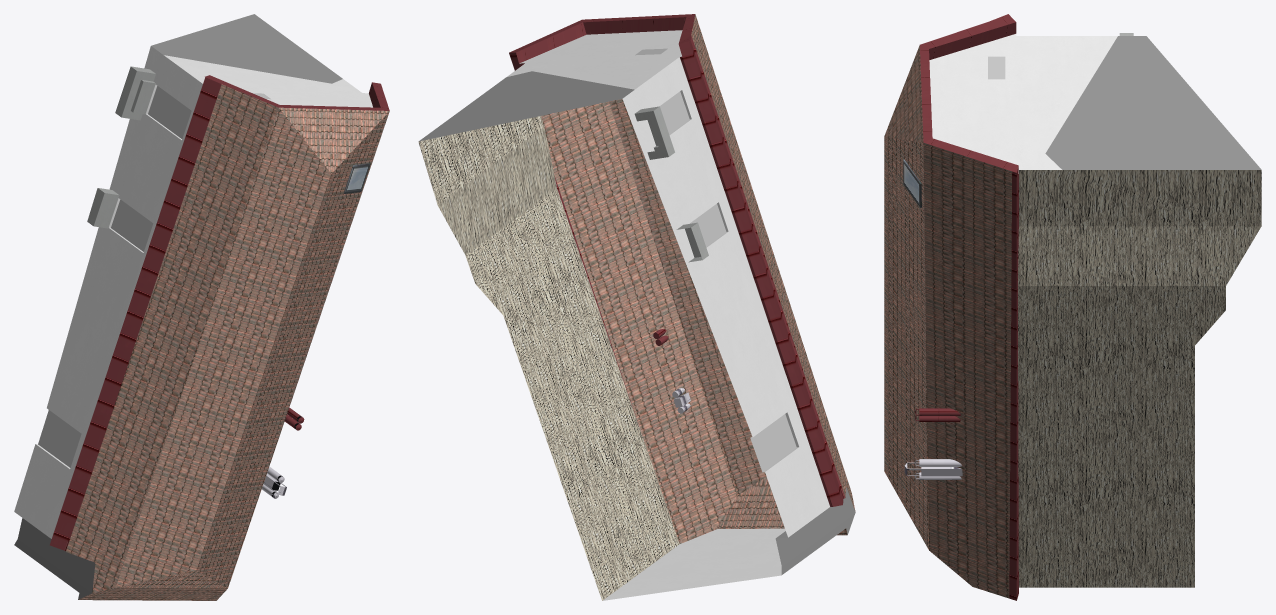
Rendered from Lyhike_jalg_9.obj.
The picture shows the model from 3 angles, left to right: view 1: azimuth 30°, elevation 25°; view 2: azimuth 150°, elevation 25°; view 3: azimuth 270°, elevation 25°; orthographic projection. The views are drawn at different scales.
Parts seen in each view (by area): view 1: Lyhike_Jalg_9; view 2: Lyhike_Jalg_9; view 3: Lyhike_Jalg_9.
Boxes of the visible parts, bbox=[...] form: Lyhike_Jalg_9: bbox=[14, 14, 389, 600]; Lyhike_Jalg_9: bbox=[418, 14, 855, 600]; Lyhike_Jalg_9: bbox=[884, 14, 1261, 600].
Size of the model in its own units: 10.94 by 16.11 by 9.51.
